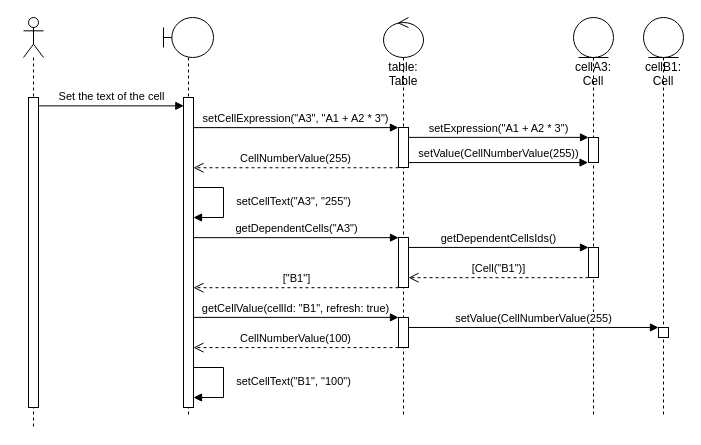
This 701x445 diagram has some shape labels left out. Here are the shapes that lost their labels. From the top down, the box of each, then its label:
(22, 16, 44, 428): Vasyl: User
(162, 16, 214, 418): view: MainView
